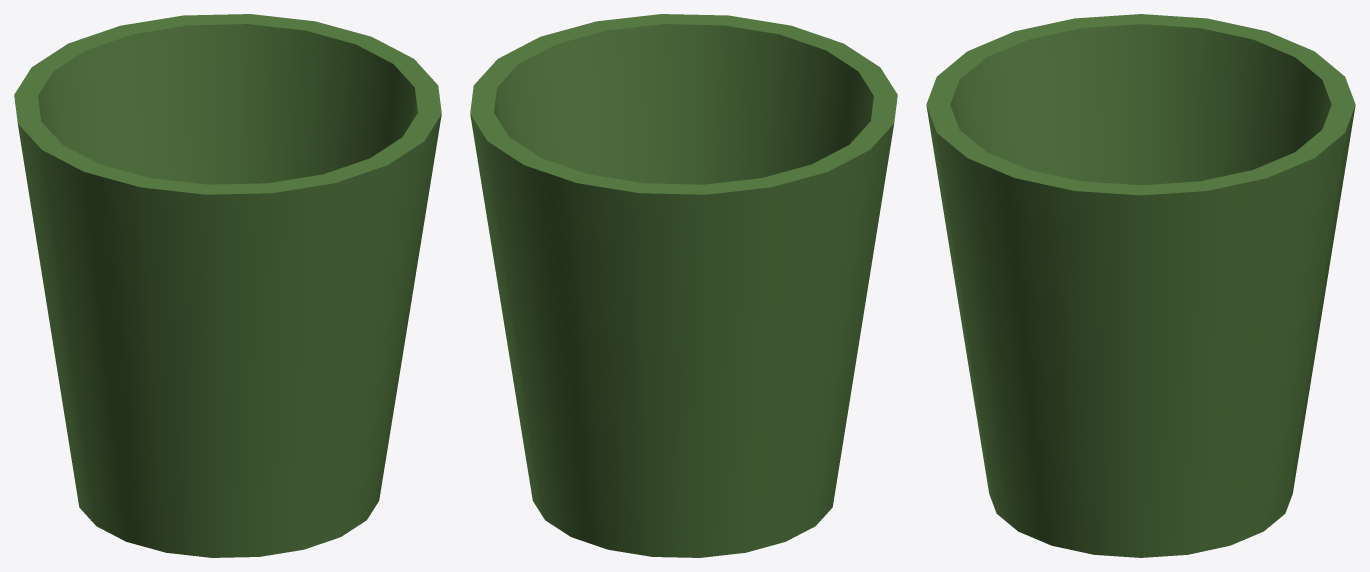
The model's file is glas.fbx.
3 renders of one model, left to right at view 1: azimuth 30°, elevation 25°; view 2: azimuth 150°, elevation 25°; view 3: azimuth 270°, elevation 25°, orthographic.
Parts seen in each view (by area): view 1: glass; view 2: glass; view 3: glass.
Part boxes in pixels (x1,y1,x2,y2): glass: (14, 14, 441, 557); glass: (470, 14, 897, 557); glass: (926, 14, 1355, 557).
Bounding box in the file's own units: 0.1315 × 0.1315 × 0.1315.
